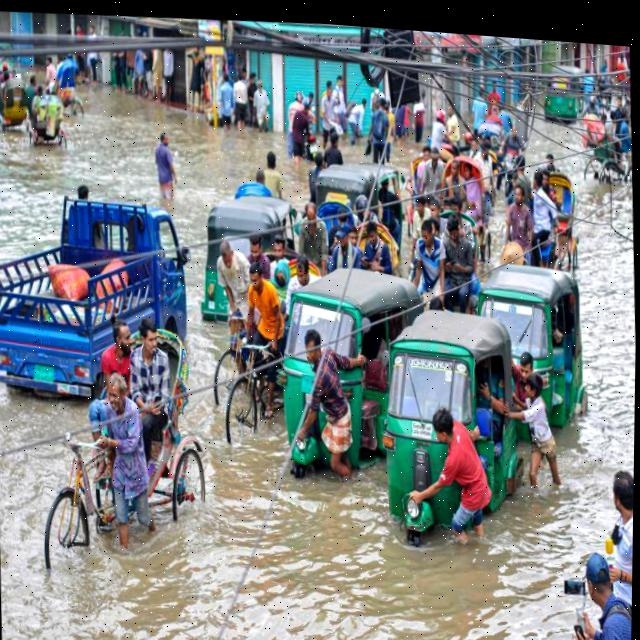civilian: (80, 368, 183, 575), (283, 322, 353, 512), (427, 404, 503, 570), (512, 370, 578, 509), (239, 262, 288, 437), (553, 541, 633, 640), (126, 316, 177, 463), (596, 445, 634, 621), (140, 118, 185, 223), (212, 232, 247, 354), (401, 221, 448, 290), (96, 312, 132, 401), (501, 344, 544, 416), (446, 215, 486, 291), (361, 97, 400, 170), (177, 43, 209, 129), (399, 91, 436, 158), (526, 162, 559, 235), (314, 76, 343, 150), (288, 103, 317, 176), (529, 228, 573, 274), (300, 203, 331, 268), (256, 146, 286, 211), (418, 143, 450, 203), (453, 161, 490, 211), (508, 184, 532, 259), (61, 174, 106, 214), (280, 90, 304, 160), (149, 42, 172, 115), (319, 126, 354, 172), (210, 75, 232, 148), (156, 43, 180, 109), (331, 222, 360, 274), (108, 34, 131, 98), (70, 21, 91, 85), (83, 24, 105, 85), (331, 67, 351, 133), (359, 225, 388, 270), (346, 98, 370, 152), (231, 75, 251, 134), (250, 81, 269, 138), (243, 69, 261, 128), (246, 163, 274, 199), (131, 42, 147, 102), (537, 167, 564, 202), (501, 122, 526, 158), (472, 86, 492, 131), (426, 105, 449, 144), (406, 191, 434, 222), (319, 73, 337, 121), (444, 105, 465, 146), (472, 140, 499, 171), (603, 105, 619, 154), (299, 88, 319, 125), (615, 110, 631, 156), (247, 230, 265, 268), (273, 234, 291, 272), (294, 255, 313, 290), (44, 51, 59, 91), (20, 71, 39, 102), (540, 154, 564, 177), (497, 107, 516, 132), (489, 79, 505, 107), (613, 94, 630, 118), (465, 140, 482, 163), (461, 129, 475, 152), (485, 100, 501, 119), (0, 56, 12, 80)
